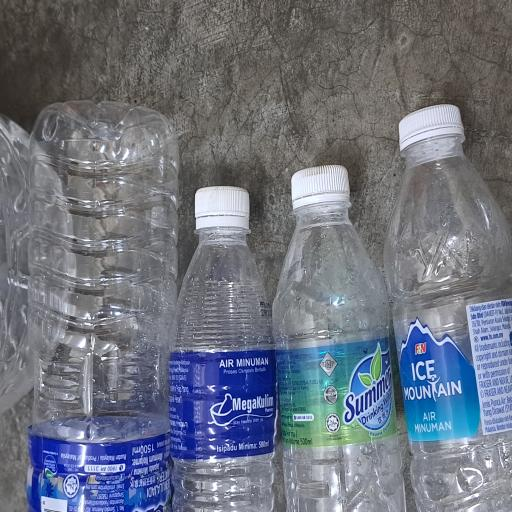plastic bottle: (0, 33, 314, 240), (0, 360, 236, 512), (0, 223, 211, 371), (70, 0, 304, 102)
plastic bottle cap: (228, 387, 262, 469), (218, 259, 246, 333)
